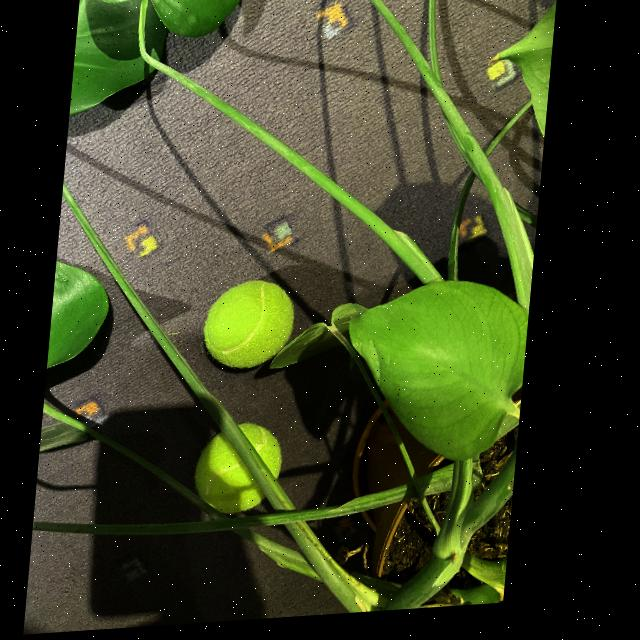Tennisball: (204, 280, 294, 368), (194, 432, 265, 514), (238, 423, 282, 478)
